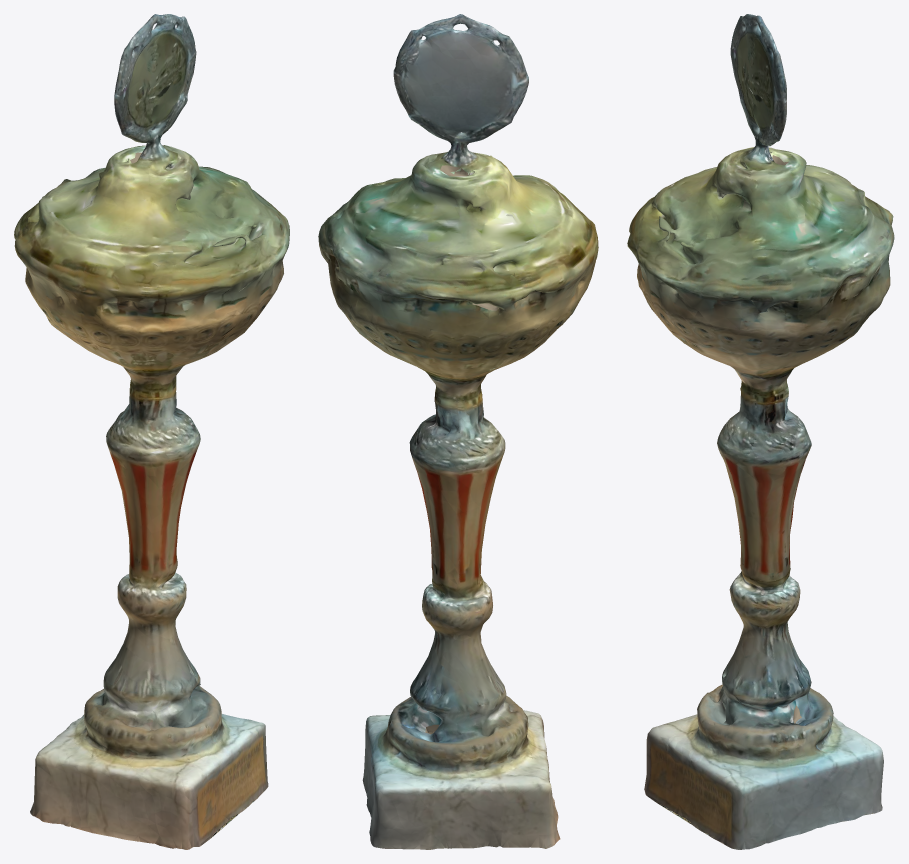
Rendered from trofeo_low_poly_cleanup.obj.
The picture shows the model from 3 angles, left to right: view 1: azimuth 30°, elevation 25°; view 2: azimuth 150°, elevation 25°; view 3: azimuth 270°, elevation 25°; orthographic projection.
Visible parts, largest first — view 1: mesh_lowpoly; view 2: mesh_lowpoly; view 3: mesh_lowpoly.
Boxes of the visible parts, x1,y1,x2,y2 form: mesh_lowpoly: (14,14,289,849); mesh_lowpoly: (318,14,598,849); mesh_lowpoly: (627,14,894,849).
Bounding box in the file's own units: 0.8967 × 2.81 × 0.868.
8 materials, 8 textured.
